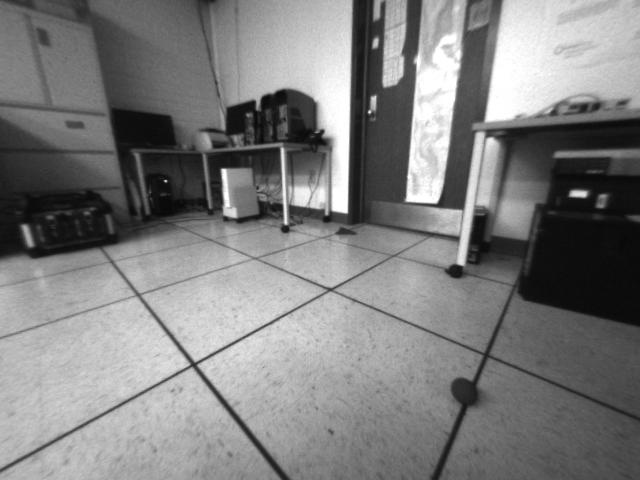dogtoy: (445, 370, 491, 413)
